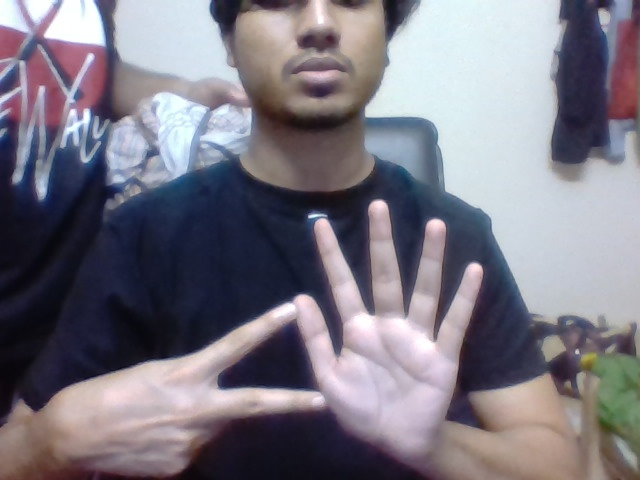N: (196, 300, 293, 426)
